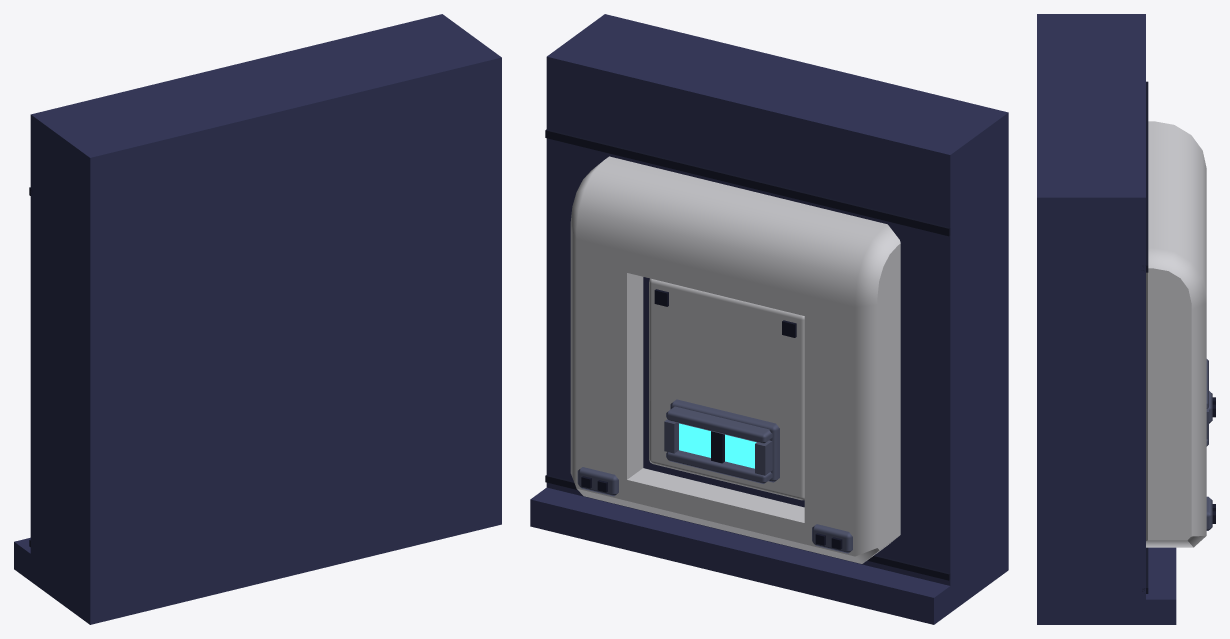
File: hull.upper.straight.l1.000.s3.glb
3 views of the same model, side by side, from view 1: azimuth 30°, elevation 25°; view 2: azimuth 150°, elevation 25°; view 3: azimuth 270°, elevation 25° (orthographic). The views are drawn at different scales.
Parts seen in each view (by area): view 1: hull.upper.straight.l1.000.s3; view 2: hull.upper.straight.l1.000.s3; view 3: hull.upper.straight.l1.000.s3.
Part boxes in pixels (x1=…): hull.upper.straight.l1.000.s3: x1=14, y1=14, x2=501, y2=624; hull.upper.straight.l1.000.s3: x1=530, y1=14, x2=1008, y2=624; hull.upper.straight.l1.000.s3: x1=1037, y1=14, x2=1215, y2=624.
Bounding box in the file's own units: 1 × 1.08 × 0.411.
